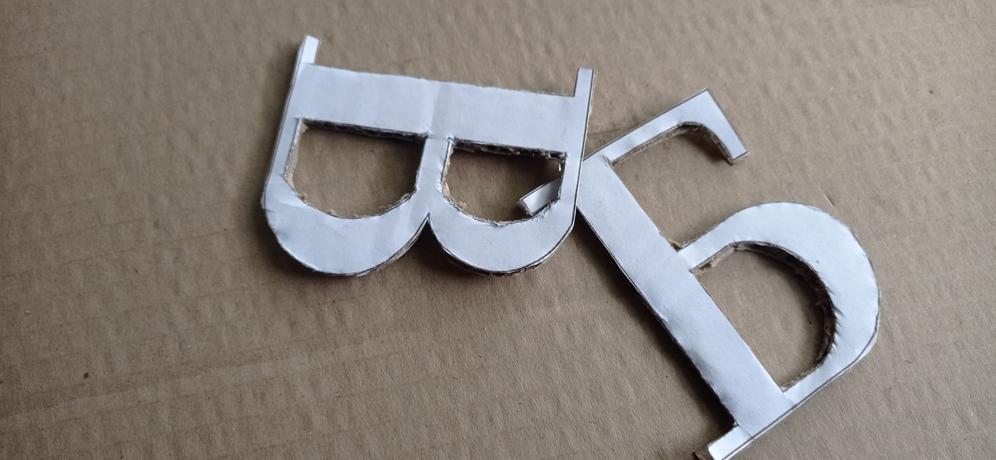b: (518, 88, 879, 460)
v: (260, 34, 595, 279)
